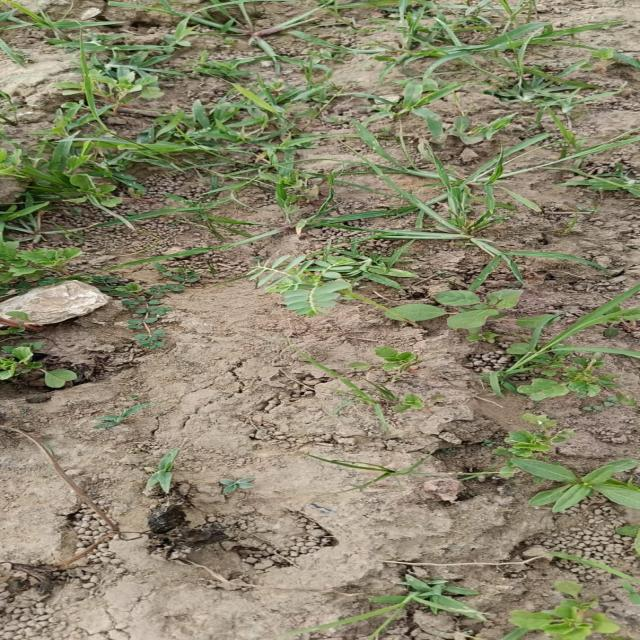plant: (248, 255, 522, 330)
